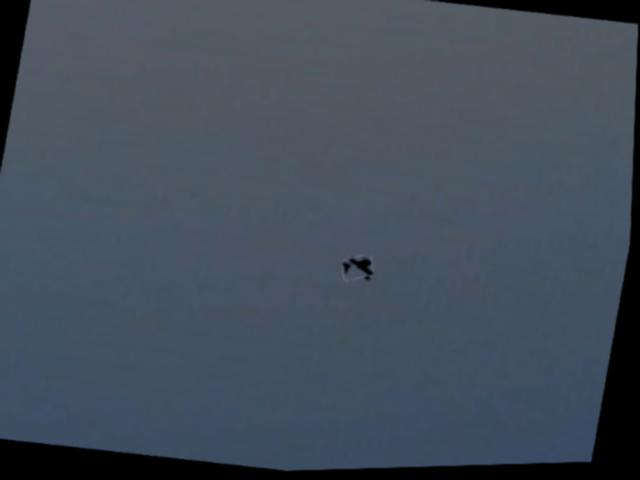insansiz-hava-araci: (341, 255, 377, 285)
